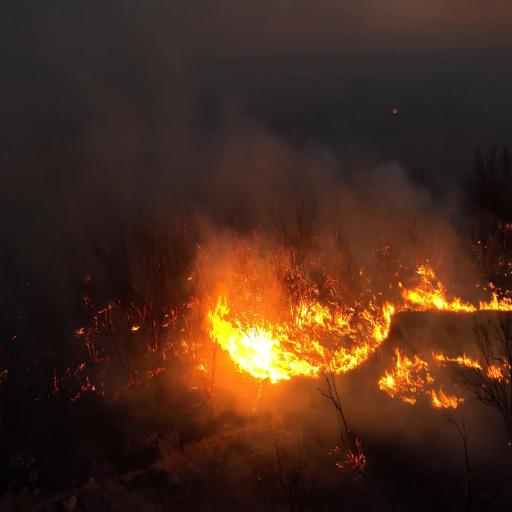fire: (295, 281, 397, 372), (202, 286, 286, 389), (391, 357, 441, 402)
smoke: (186, 116, 332, 216)
